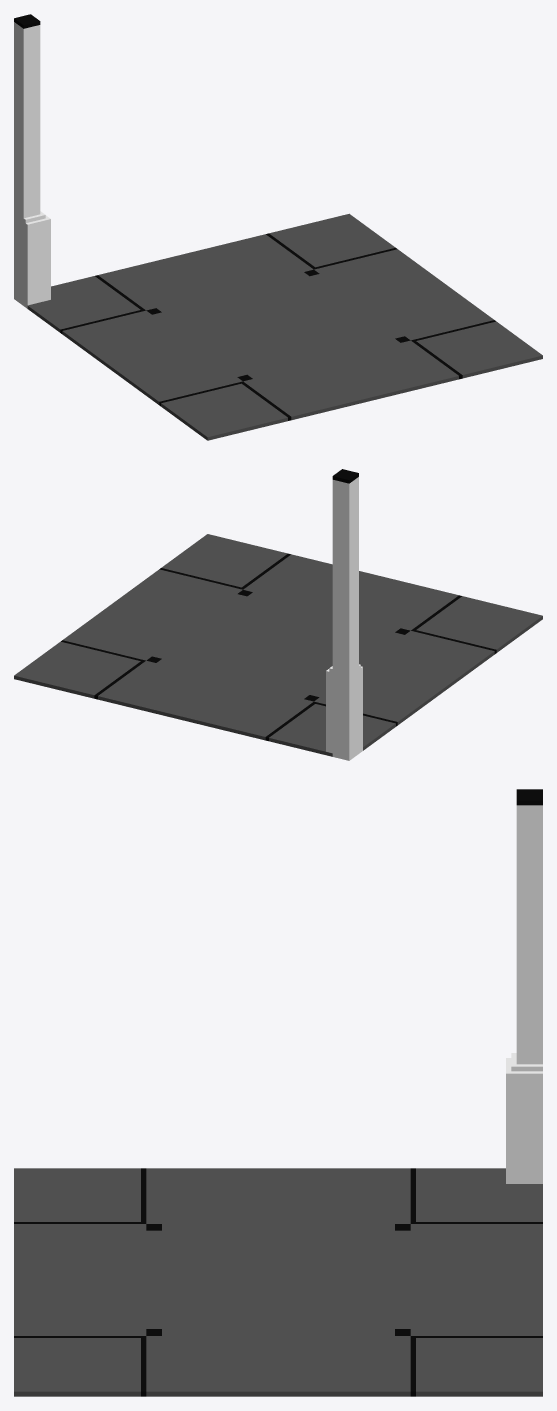
File: Corner 2.obj
3 views of the same model, one above another, from view 1: azimuth 30°, elevation 25°; view 2: azimuth 150°, elevation 25°; view 3: azimuth 270°, elevation 25° (orthographic). The views are drawn at different scales.
Bounding box in the file's own units: 10 × 8 × 10.
1 material, 1 textured.
